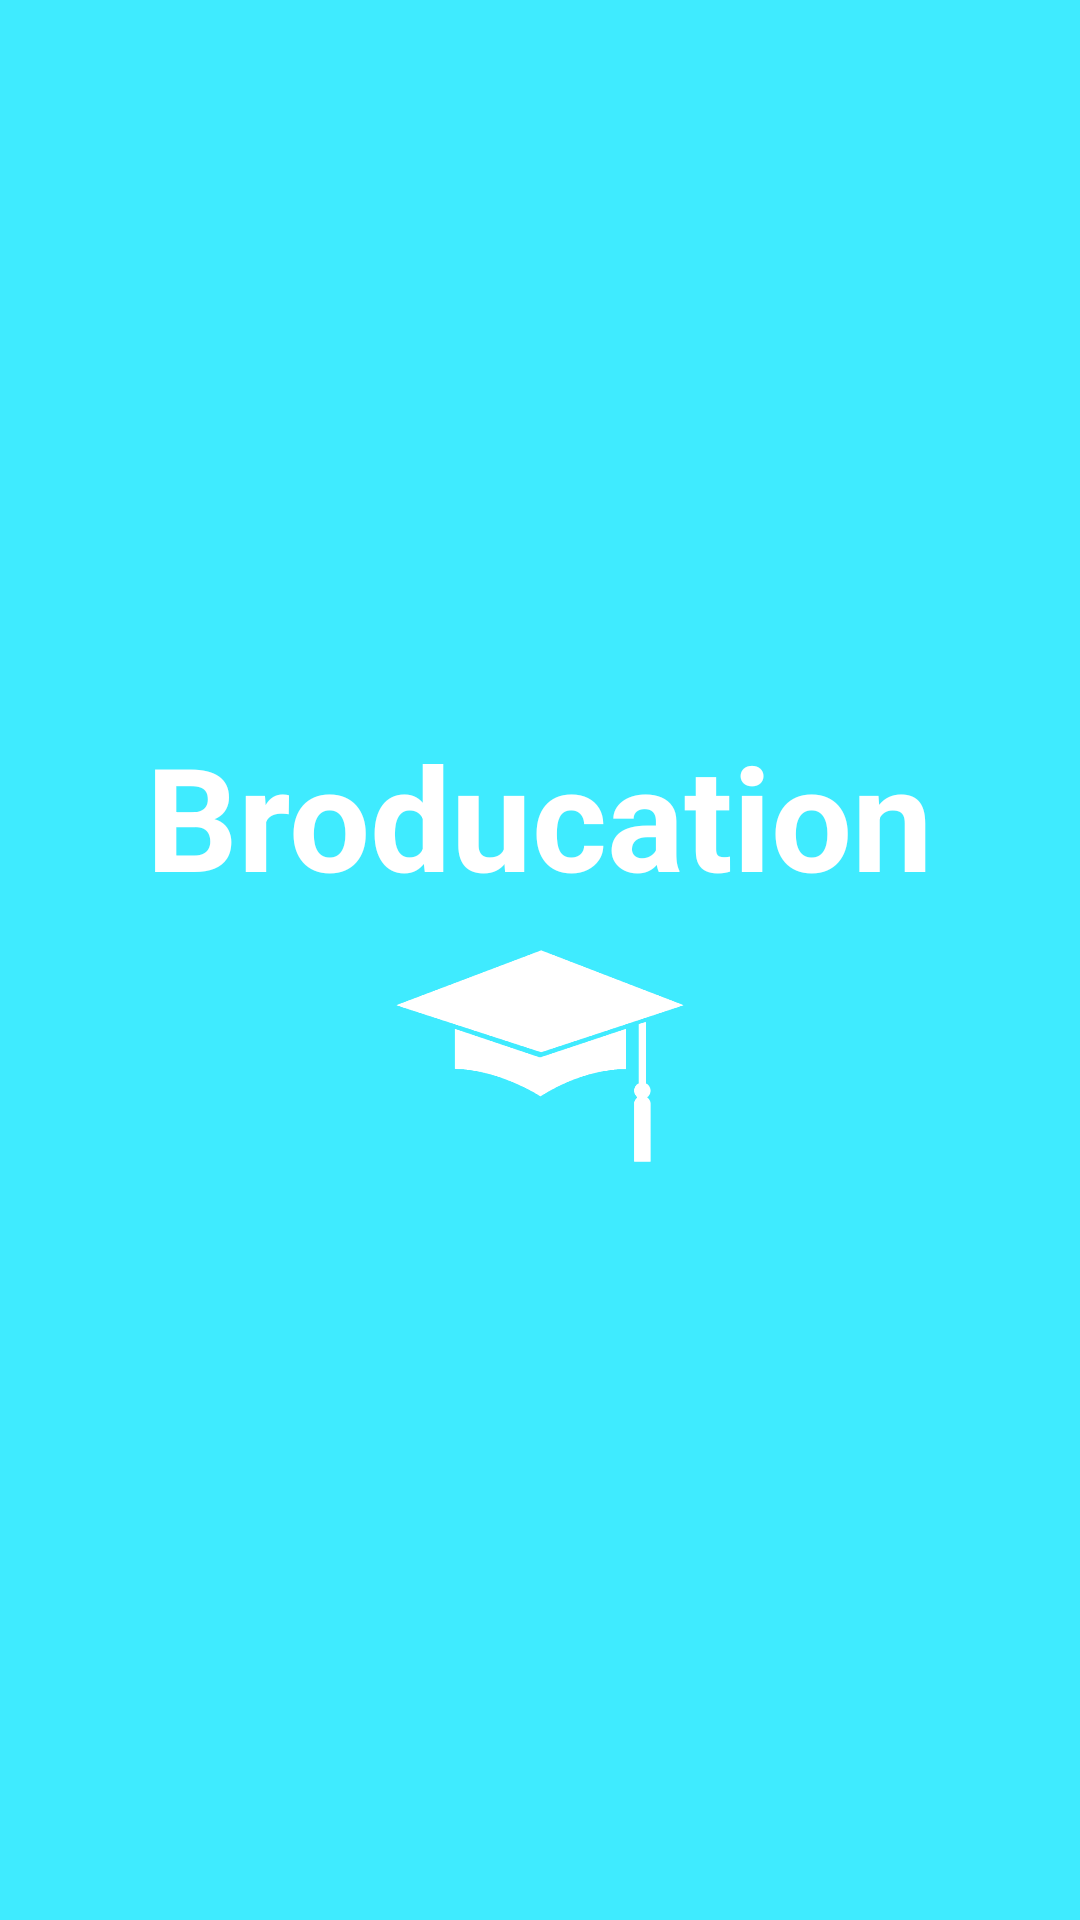

Where to tap for icons on this 1080px x 1920px app screen, as (x,y):
cap: (540,1056)
